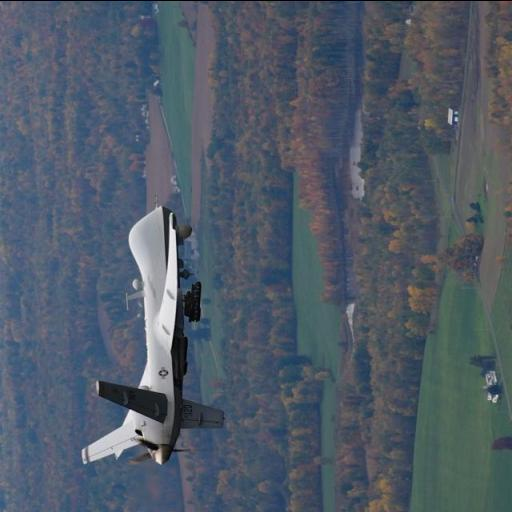uav: (74, 189, 224, 478)
